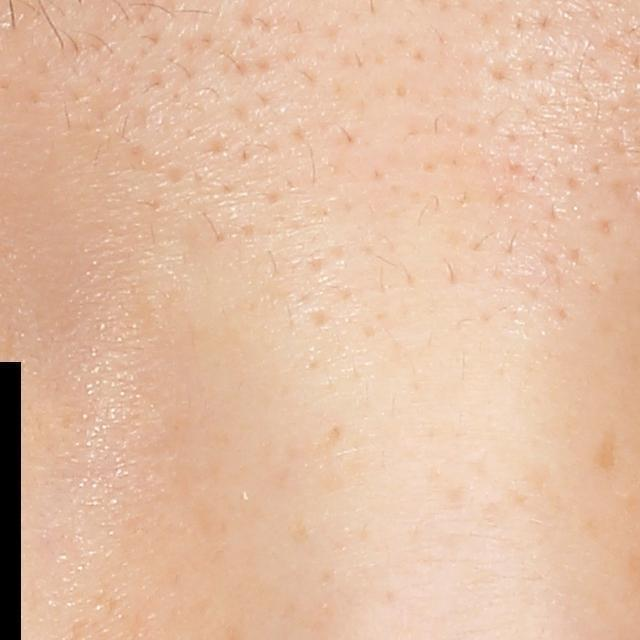melasma: (592, 423, 618, 474)
